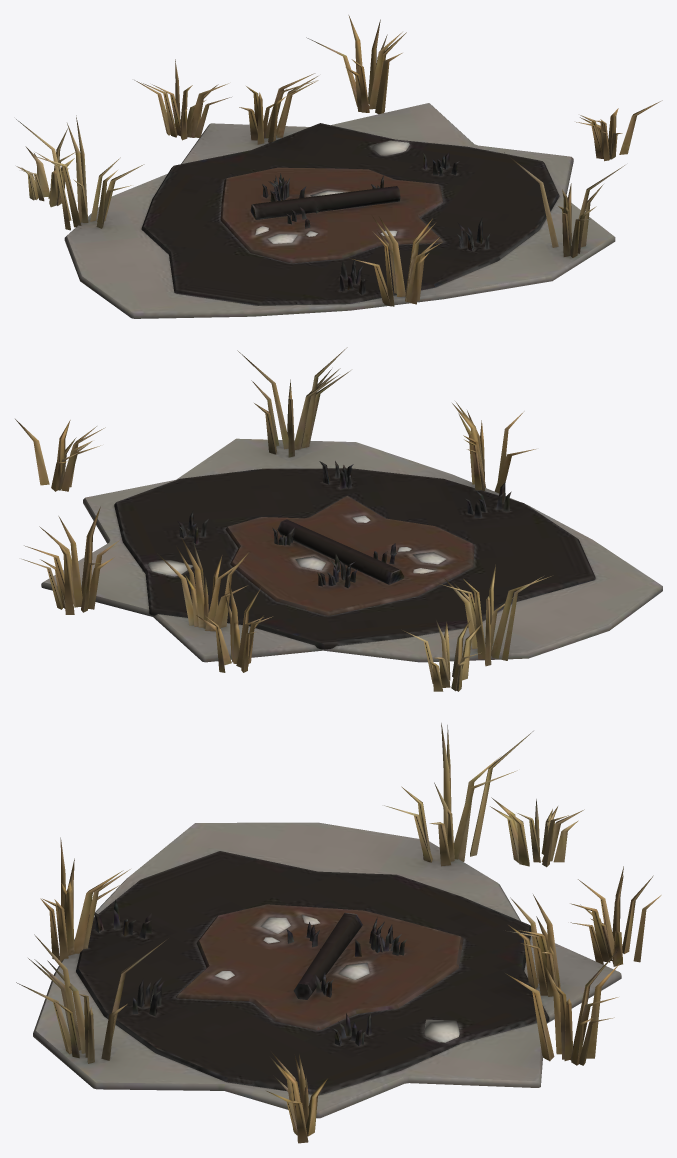
Rendered from scorch_patch.glb.
3 renders of one model, top to bottom at view 1: azimuth 30°, elevation 25°; view 2: azimuth 150°, elevation 25°; view 3: azimuth 270°, elevation 25°, orthographic. The views are drawn at different scales.
Visible parts, largest first — view 1: scorch_patch; view 2: scorch_patch; view 3: scorch_patch.
Boxes of the visible parts, x1,y1,x2,y2 form: scorch_patch: (16,15,662,318); scorch_patch: (15,347,662,691); scorch_patch: (16,723,661,1143).
Size of the model in its own units: 2.5 by 0.3876 by 2.04.
Materials: 1 (1 with a texture image).
